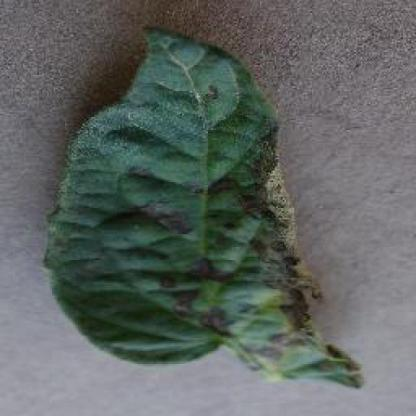Tomato_Blight: (43, 27, 368, 386)
